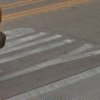crosswalk: (0, 28, 99, 82)
